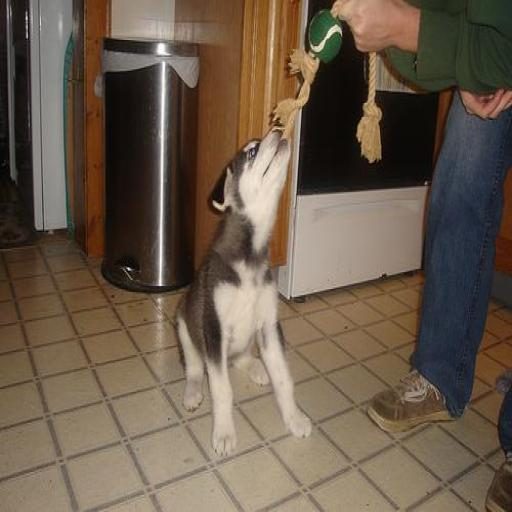dog_face: (210, 137, 300, 223)
